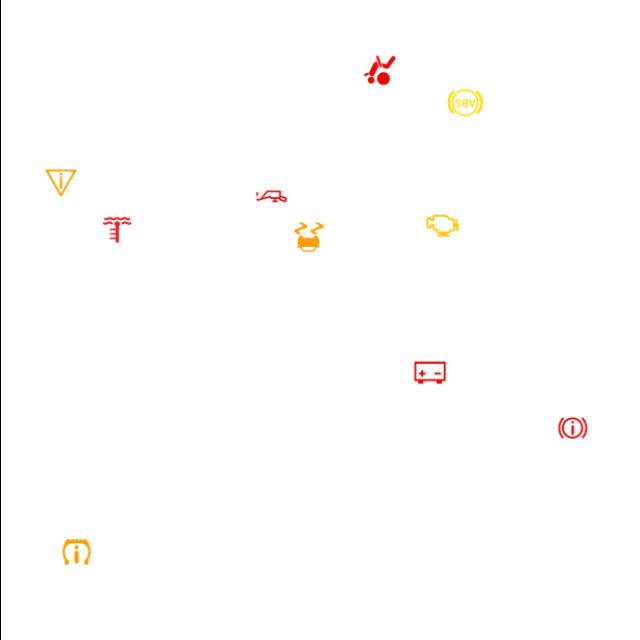Anti Lock Braking System: (446, 84, 484, 122)
Braking System Issue: (552, 409, 590, 447)
Charging System Issue: (410, 354, 448, 392)
Check Engine: (422, 207, 460, 244)
Electronic Stability Problem -ESP-: (289, 218, 327, 256)
Engine Overheating Warning Light: (97, 211, 135, 249)
Low Engine Oil Warning Light: (252, 178, 290, 215)
Low Tire Pressure Warning Light: (56, 533, 94, 571)
Master warning light: (41, 164, 79, 202)
SRS-Airbag: (360, 52, 398, 90)
